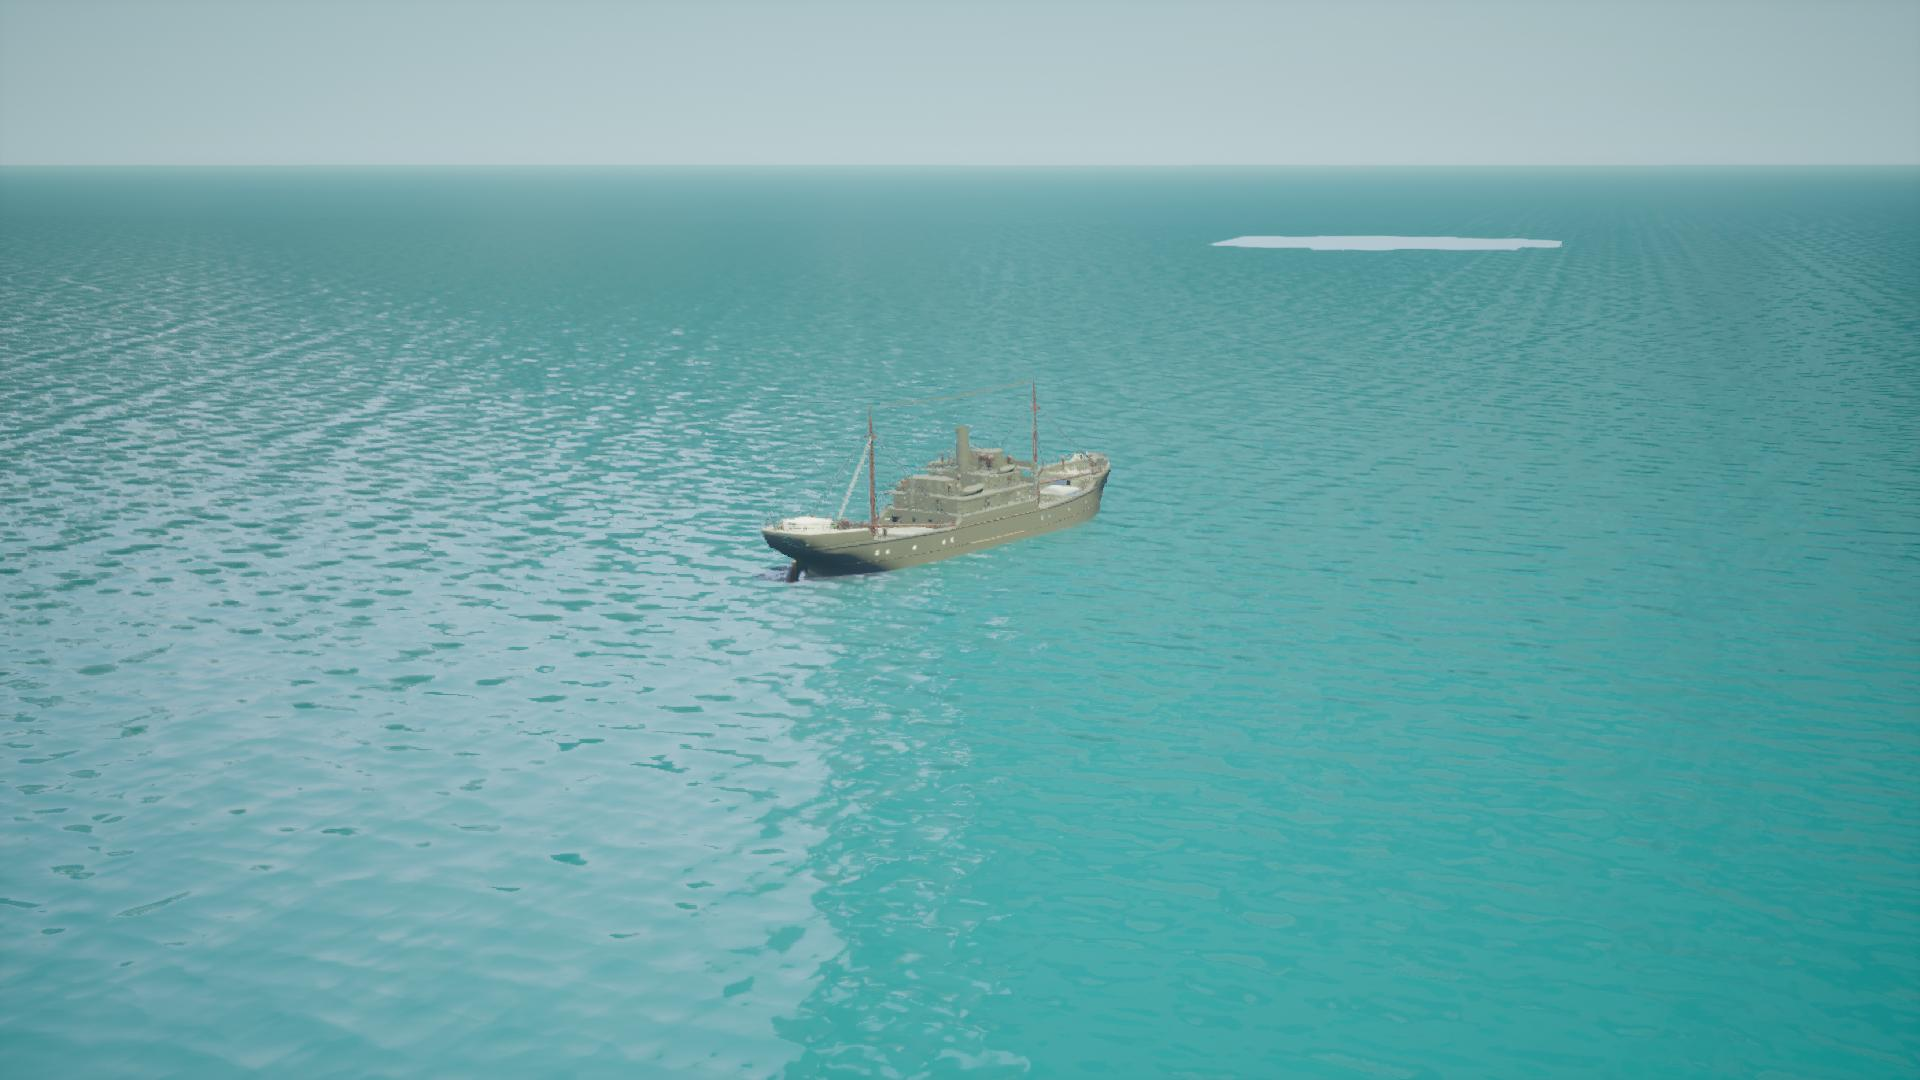Fishing Boat: (764, 389, 1110, 579)
